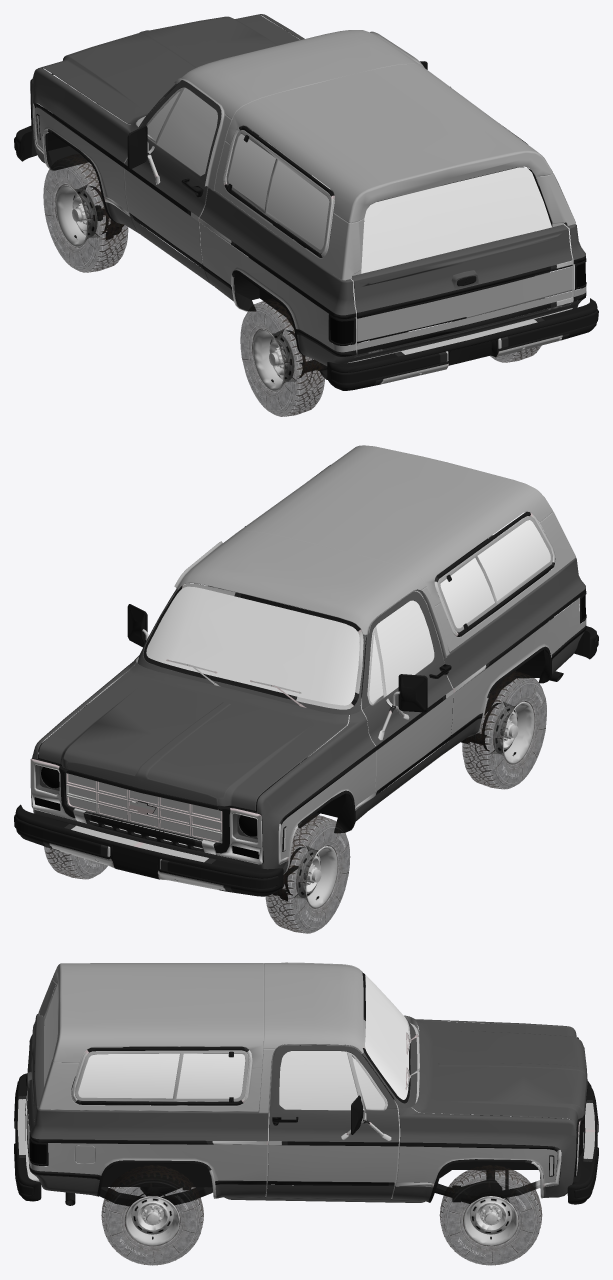
3 renders of one model, top to bottom at view 1: azimuth 30°, elevation 25°; view 2: azimuth 150°, elevation 25°; view 3: azimuth 270°, elevation 25°, orthographic. The views are drawn at different scales.
Visible parts, largest first — view 1: LOD0_Details:LOD0_Details_0, LOD0_Wheel_Tyre:LOD0_Wheel_Tyre_1, LOD0_Wheel_Spokes:LOD0_Wheel_Spokes_0; view 2: LOD0_Details:LOD0_Details_0, LOD0_Wheel_Tyre:LOD0_Wheel_Tyre_1, LOD0_Wheel_Spokes:LOD0_Wheel_Spokes_0; view 3: LOD0_Details:LOD0_Details_0, LOD0_Wheel_Tyre:LOD0_Wheel_Tyre_1, LOD0_Wheel_Spokes:LOD0_Wheel_Spokes_0.
Part boxes in pixels (x1,y1,x2,y2): LOD0_Details:LOD0_Details_0: [14, 14, 598, 390]; LOD0_Wheel_Tyre:LOD0_Wheel_Tyre_1: [43, 153, 541, 416]; LOD0_Wheel_Spokes:LOD0_Wheel_Spokes_0: [55, 184, 312, 391]; LOD0_Details:LOD0_Details_0: [14, 445, 598, 900]; LOD0_Wheel_Tyre:LOD0_Wheel_Tyre_1: [44, 671, 546, 933]; LOD0_Wheel_Spokes:LOD0_Wheel_Spokes_0: [278, 695, 534, 908]; LOD0_Details:LOD0_Details_0: [14, 962, 598, 1206]; LOD0_Wheel_Tyre:LOD0_Wheel_Tyre_1: [101, 1113, 542, 1265]; LOD0_Wheel_Spokes:LOD0_Wheel_Spokes_0: [125, 1114, 518, 1245].
Size of what is drawn, in the model's own units: 0.0245 by 0.02 by 0.0482.
Materials: 4 (4 with a texture image).
